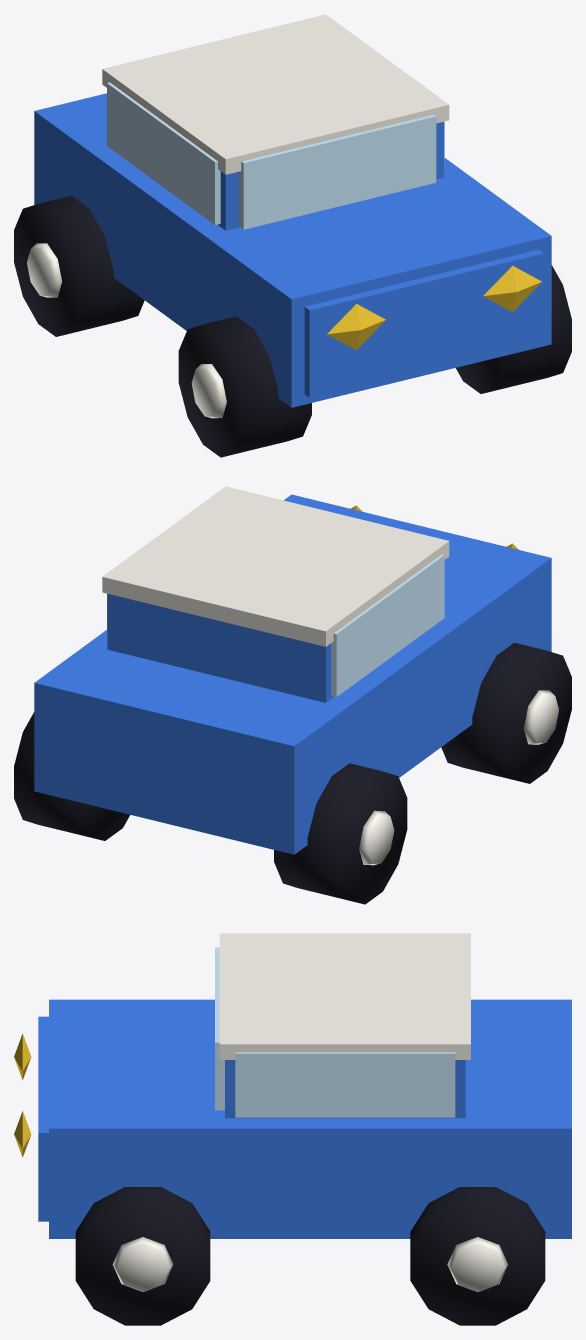
Rendered from Car.fbx.
3 views of the same model, one above another, from view 1: azimuth 30°, elevation 25°; view 2: azimuth 150°, elevation 25°; view 3: azimuth 270°, elevation 25° (orthographic).
Parts seen in each view (by area): view 1: Car; view 2: Car; view 3: Car.
Part boxes in pixels (<box>): Car: <box>14,14,571,457</box>; Car: <box>14,486,571,904</box>; Car: <box>14,933,571,1325</box>.
Bounding box in the file's own units: 0.092 × 0.0647 × 0.128.
